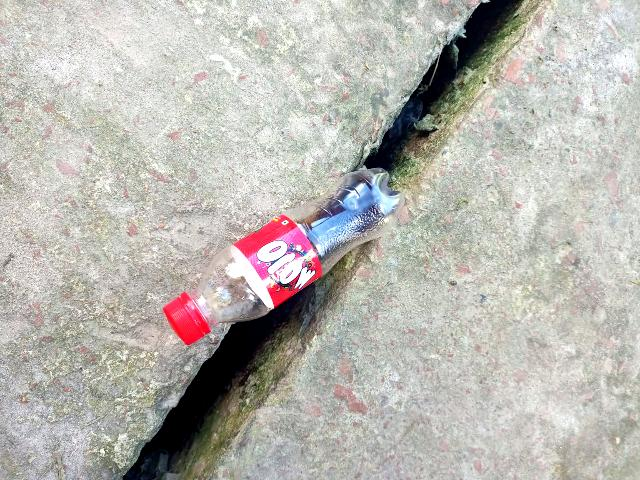bottle: (131, 140, 433, 379)
